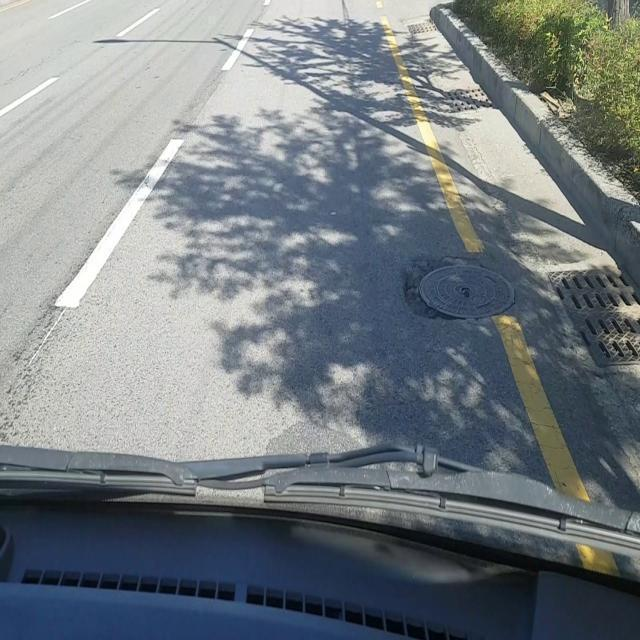pothole: (401, 254, 518, 324)
